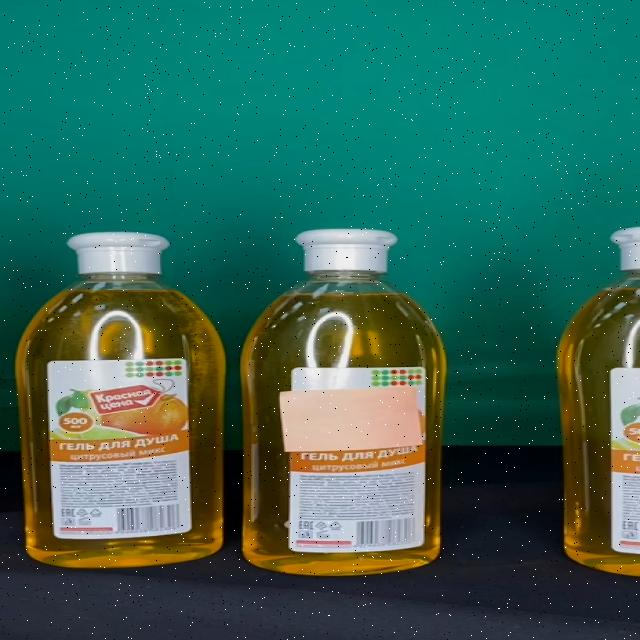Bottle: (240, 229, 446, 576), (14, 230, 224, 567)
Cap: (297, 230, 399, 273), (67, 231, 171, 273)
